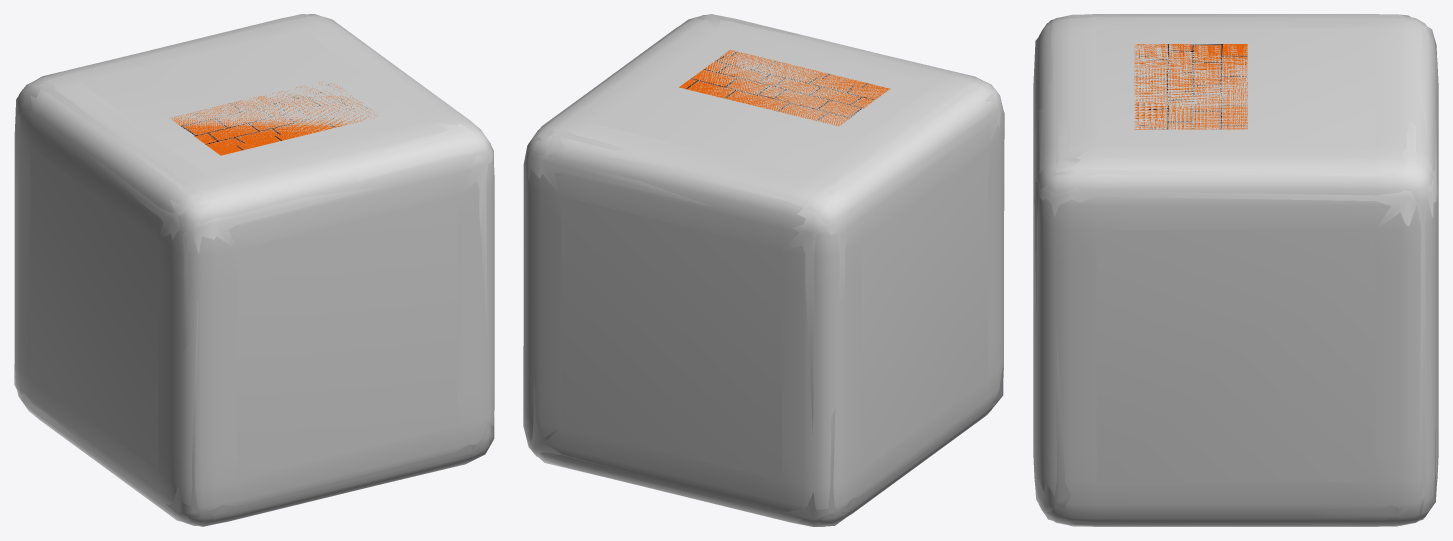
The model's file is Wall.fbx.
The picture shows the model from 3 angles, left to right: view 1: azimuth 30°, elevation 25°; view 2: azimuth 150°, elevation 25°; view 3: azimuth 270°, elevation 25°; orthographic projection. The views are drawn at different scales.
Visible parts, largest first — view 1: Cube, Cube_001, Cube_005; view 2: Cube, Cube_001, Cube_005; view 3: Cube, Cube_001, Cube_005.
Boxes of the visible parts, x1,y1,x2,y2 form: Cube: (14,14,494,526); Cube_001: (14,14,494,525); Cube_005: (170,82,372,155); Cube: (523,14,1004,526); Cube_001: (524,15,1003,526); Cube_005: (679,50,890,126); Cube: (1033,14,1438,526); Cube_001: (1033,14,1438,526); Cube_005: (1134,44,1247,129).
Size of the model in its own units: 2 by 2 by 2.
1 material, 1 textured.
